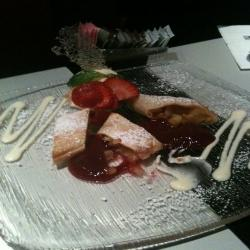apple_pie: (131, 89, 220, 134), (95, 110, 166, 165), (47, 104, 93, 165)
